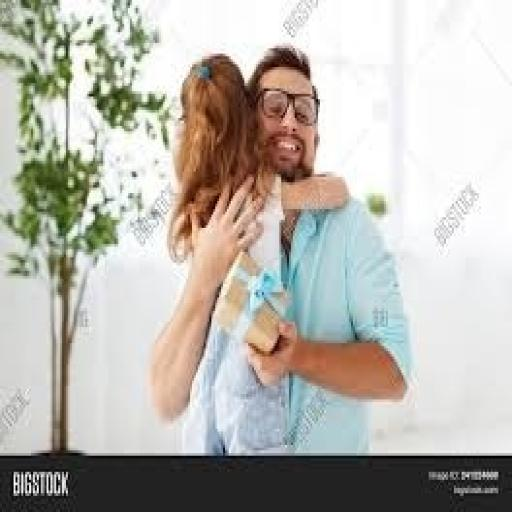hugging: (147, 43, 417, 456)
